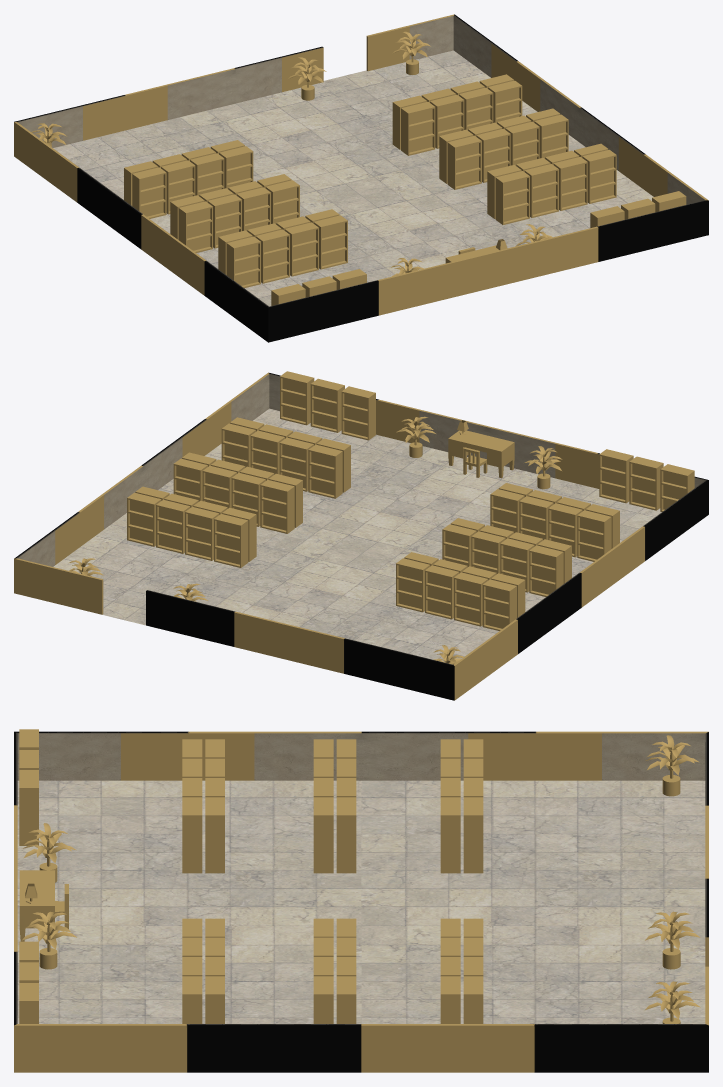
File: Room2x2_1Exit.fbx
The picture shows the model from 3 angles, top to bottom: view 1: azimuth 30°, elevation 25°; view 2: azimuth 150°, elevation 25°; view 3: azimuth 270°, elevation 25°; orthographic projection. The views are drawn at different scales.
Parts seen in each view (by area): view 1: Room2x2_1Exit, BookShelf045, BookShelf049, BookShelf057, BookShelf038, BookShelf053, BookShelf061, BookShelf054, BookShelf058, BookShelf059, BookShelf060, BookShelf055 (+23 smaller); view 2: Room2x2_1Exit, Desk3, BookShelf017, BookShelf09, BookShelf029, BookShelf037, BookShelf08, BookShelf011, BookShelf030, BookShelf018, BookShelf022, BookShelf012 (+28 smaller); view 3: Room2x2_1Exit, Desk3, BookShelf039, BookShelf050, BookShelf058, BookShelf023, BookShelf031, BookShelf019, BookShelf010, Plant021, Plant022, Plant023 (+9 smaller).
Boxes of the visible parts, x1,y1,x2,y2 form: Room2x2_1Exit: (14, 14, 708, 342); BookShelf045: (401, 101, 435, 155); BookShelf049: (447, 135, 481, 189); BookShelf057: (495, 171, 529, 224); BookShelf038: (132, 167, 166, 218); BookShelf053: (178, 201, 212, 252); BookShelf061: (226, 236, 260, 288); BookShelf054: (582, 149, 616, 203); BookShelf058: (313, 215, 347, 269); BookShelf059: (284, 222, 318, 276); BookShelf060: (255, 229, 289, 283); BookShelf055: (553, 157, 587, 210); Room2x2_1Exit: (14, 372, 708, 700); Desk3: (448, 420, 514, 478); BookShelf017: (308, 444, 342, 498); BookShelf09: (341, 386, 375, 440); BookShelf029: (260, 480, 294, 533); BookShelf037: (214, 514, 248, 567); BookShelf08: (310, 378, 344, 432); BookShelf011: (629, 456, 663, 510); BookShelf030: (482, 579, 516, 630); BookShelf018: (577, 510, 611, 561); BookShelf022: (529, 545, 563, 596); BookShelf012: (280, 371, 314, 425); Room2x2_1Exit: (14, 731, 708, 1072); Desk3: (19, 870, 54, 941); BookShelf039: (440, 797, 460, 873); BookShelf050: (313, 797, 333, 873); BookShelf058: (182, 797, 202, 873); BookShelf023: (336, 797, 356, 873); BookShelf031: (463, 797, 483, 873); BookShelf019: (205, 797, 224, 873); BookShelf010: (19, 770, 38, 845); Plant021: (22, 911, 76, 969); Plant022: (645, 911, 700, 969); Plant023: (645, 735, 699, 796).
Bounding box in the file's own units: 20 × 1.86 × 20.
Materials: 1 (1 with a texture image).
